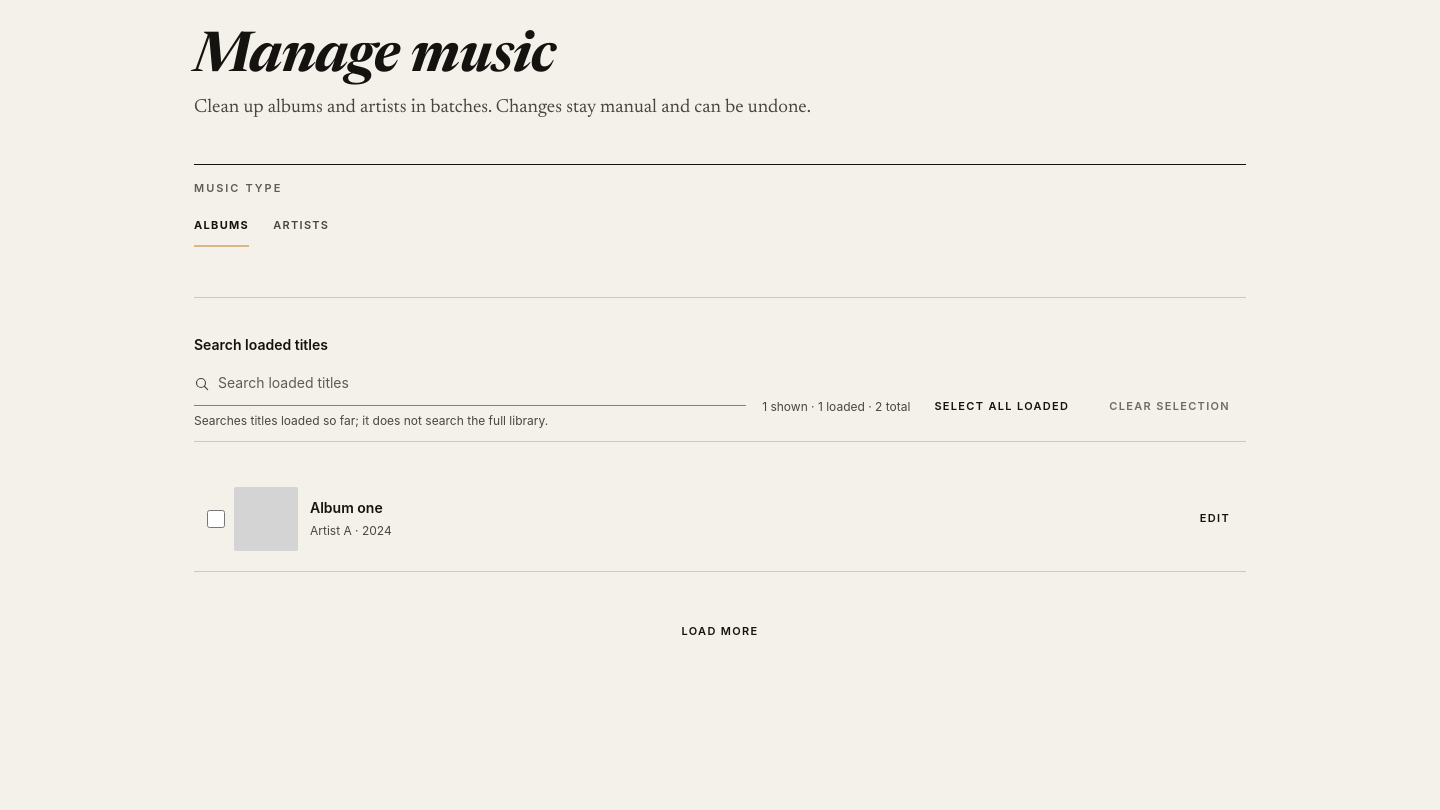
MusicCuration › keeps selected IDs when loading another cursor page and labels search as loaded-only
Expected: the text "Album one" is shown, [310,499,383,516]
What coordinates should you click on to do the following:
click the checkbox named "Select Album one"
I would click on:
 (216, 519)
Its box is [207,510,225,528].
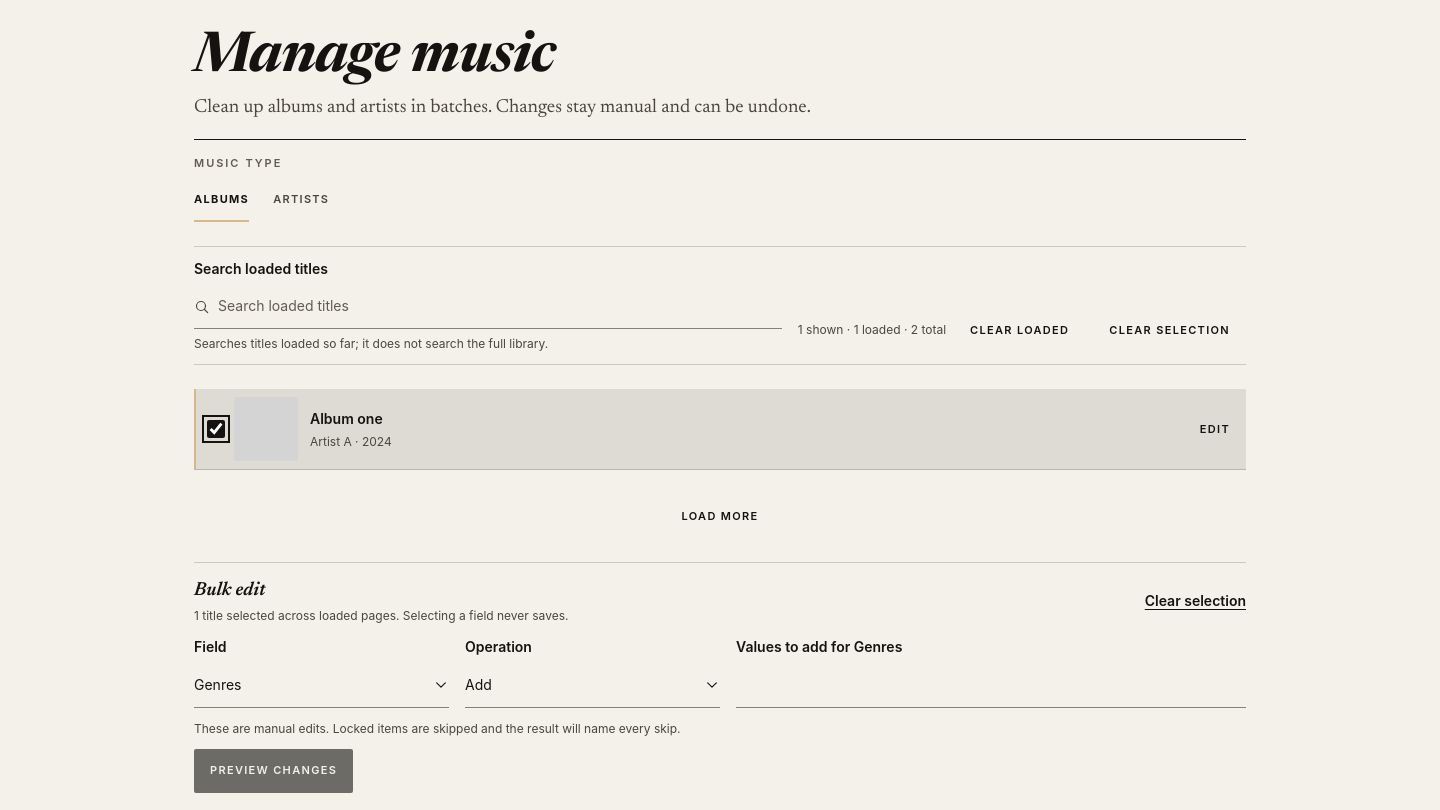
Now the text "1 title selected across loaded pages" is shown, box [194,607,568,625]
What coordinates should you click on to do the following:
click the button "Load more"
I would click on:
 (720, 516)
Its box is [194,494,1246,538].
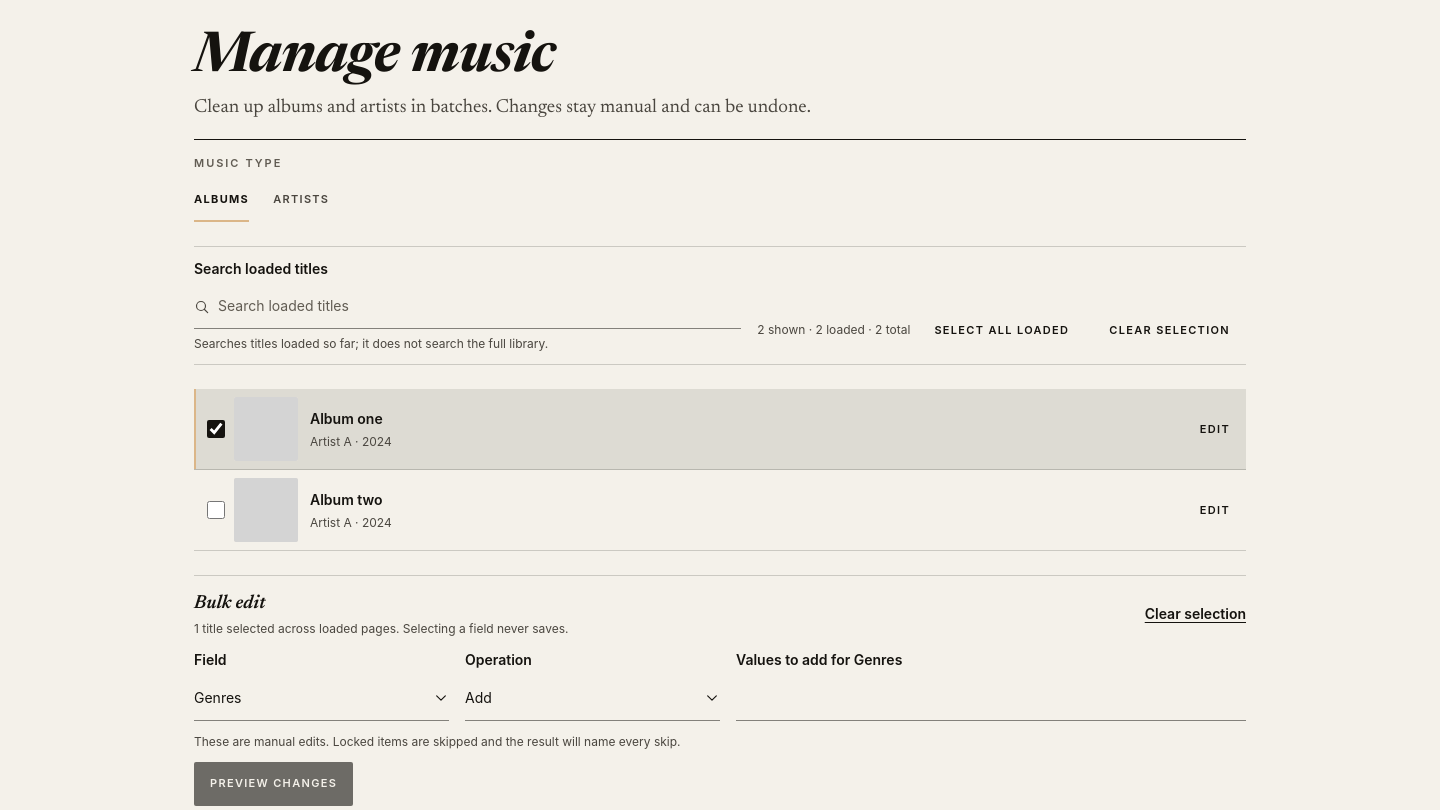
Expected: the text "Searches titles loaded so far" is shown, [194,336,548,351]
Now the checkbox named "Select Album one" is checked, box [207,420,225,438]
Now the text "Album two" is shown, box [310,491,383,508]
